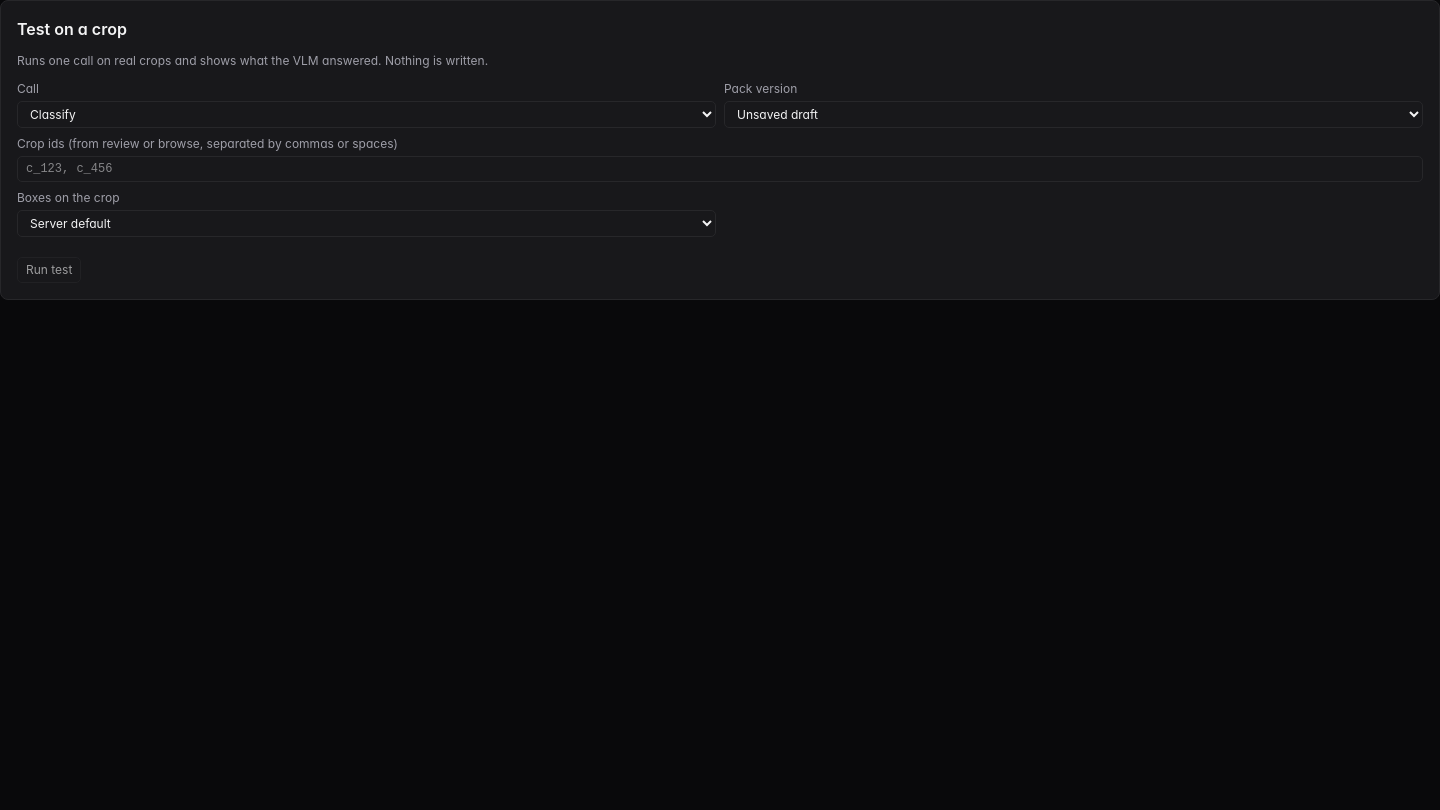
Test: PackTestPanel › shows a served skip reason instead of a parsed block
Type "c_5" into the field.
click(720, 169); type("c_5")  # box [17,156,1423,182]
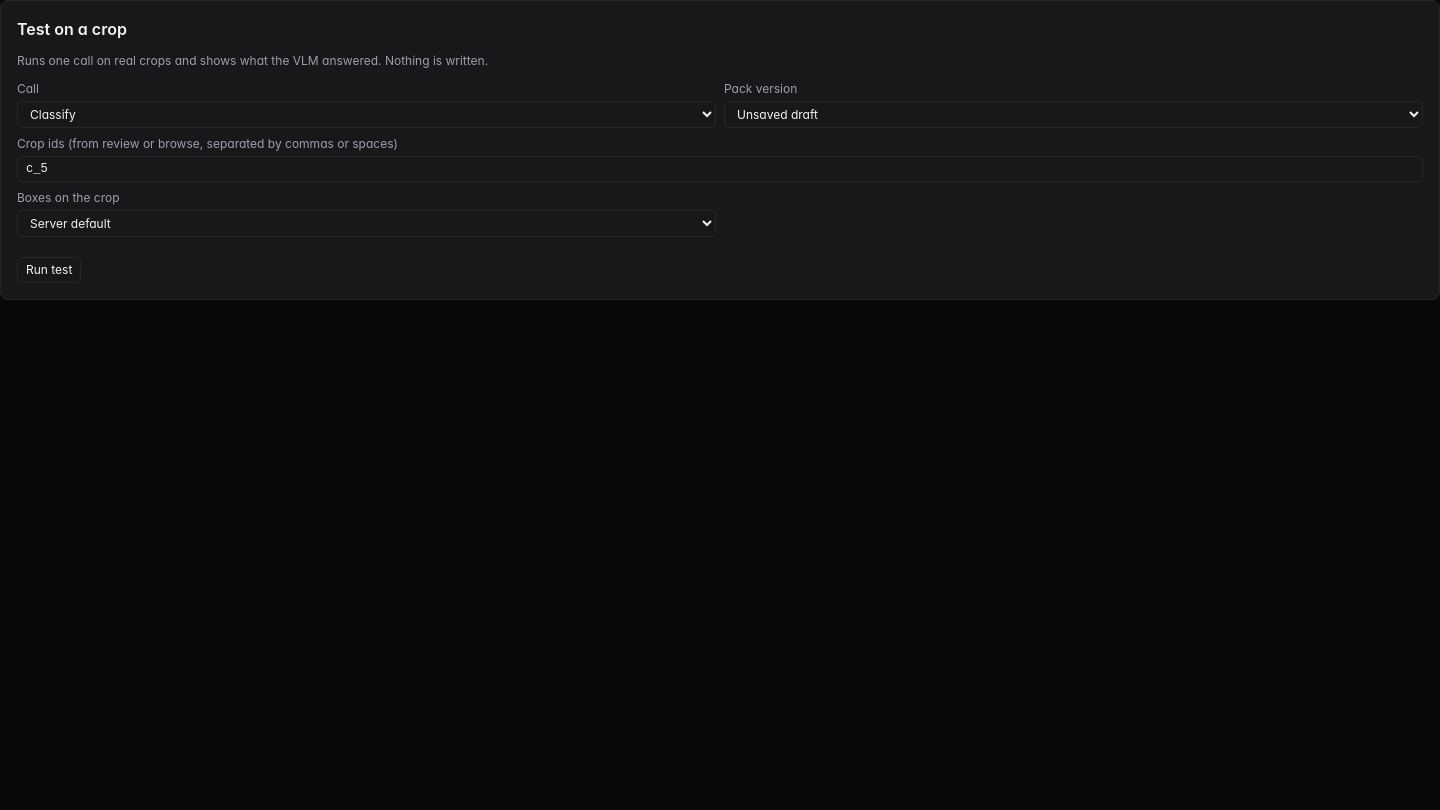
Click the button "Run test".
click(49, 270)  # box [17,257,81,283]
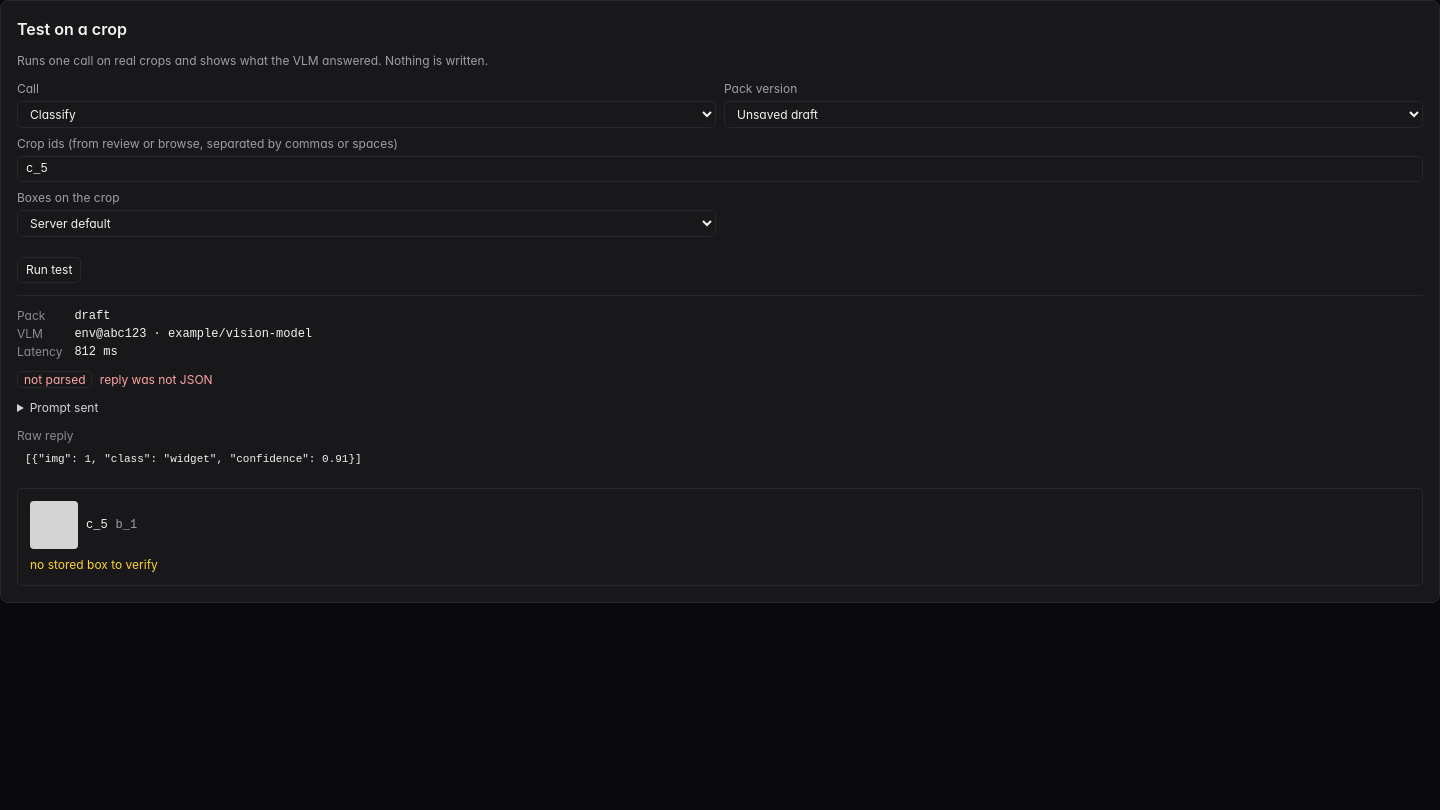
Now the text "no stored box to verify" is shown, box [30,557,158,572]
Now the text "b_1" is shown, box [116,517,137,533]
